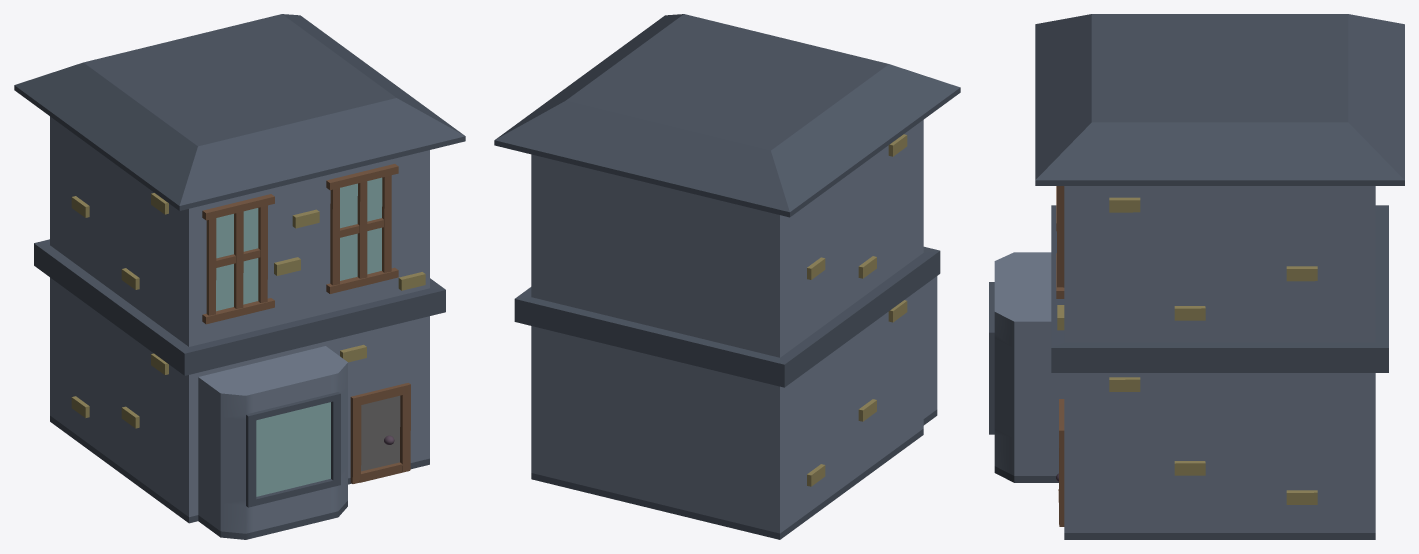
File: building#8.fbx
3 views of the same model, side by side, from view 1: azimuth 30°, elevation 25°; view 2: azimuth 150°, elevation 25°; view 3: azimuth 270°, elevation 25° (orthographic). The views are drawn at different scales.
Visible parts, largest first — view 1: pCube165, pCube166; view 2: pCube165, pCube166; view 3: pCube165, pCube166.
Part boxes in pixels (x1,y1,x2,y2): pCube165: (14, 14, 465, 346); pCube166: (34, 239, 445, 539); pCube165: (494, 14, 960, 357); pCube166: (514, 246, 940, 539); pCube165: (1035, 14, 1404, 342); pCube166: (989, 205, 1388, 539).
Bounding box in the file's own units: 13.08 × 15.85 × 14.71.
